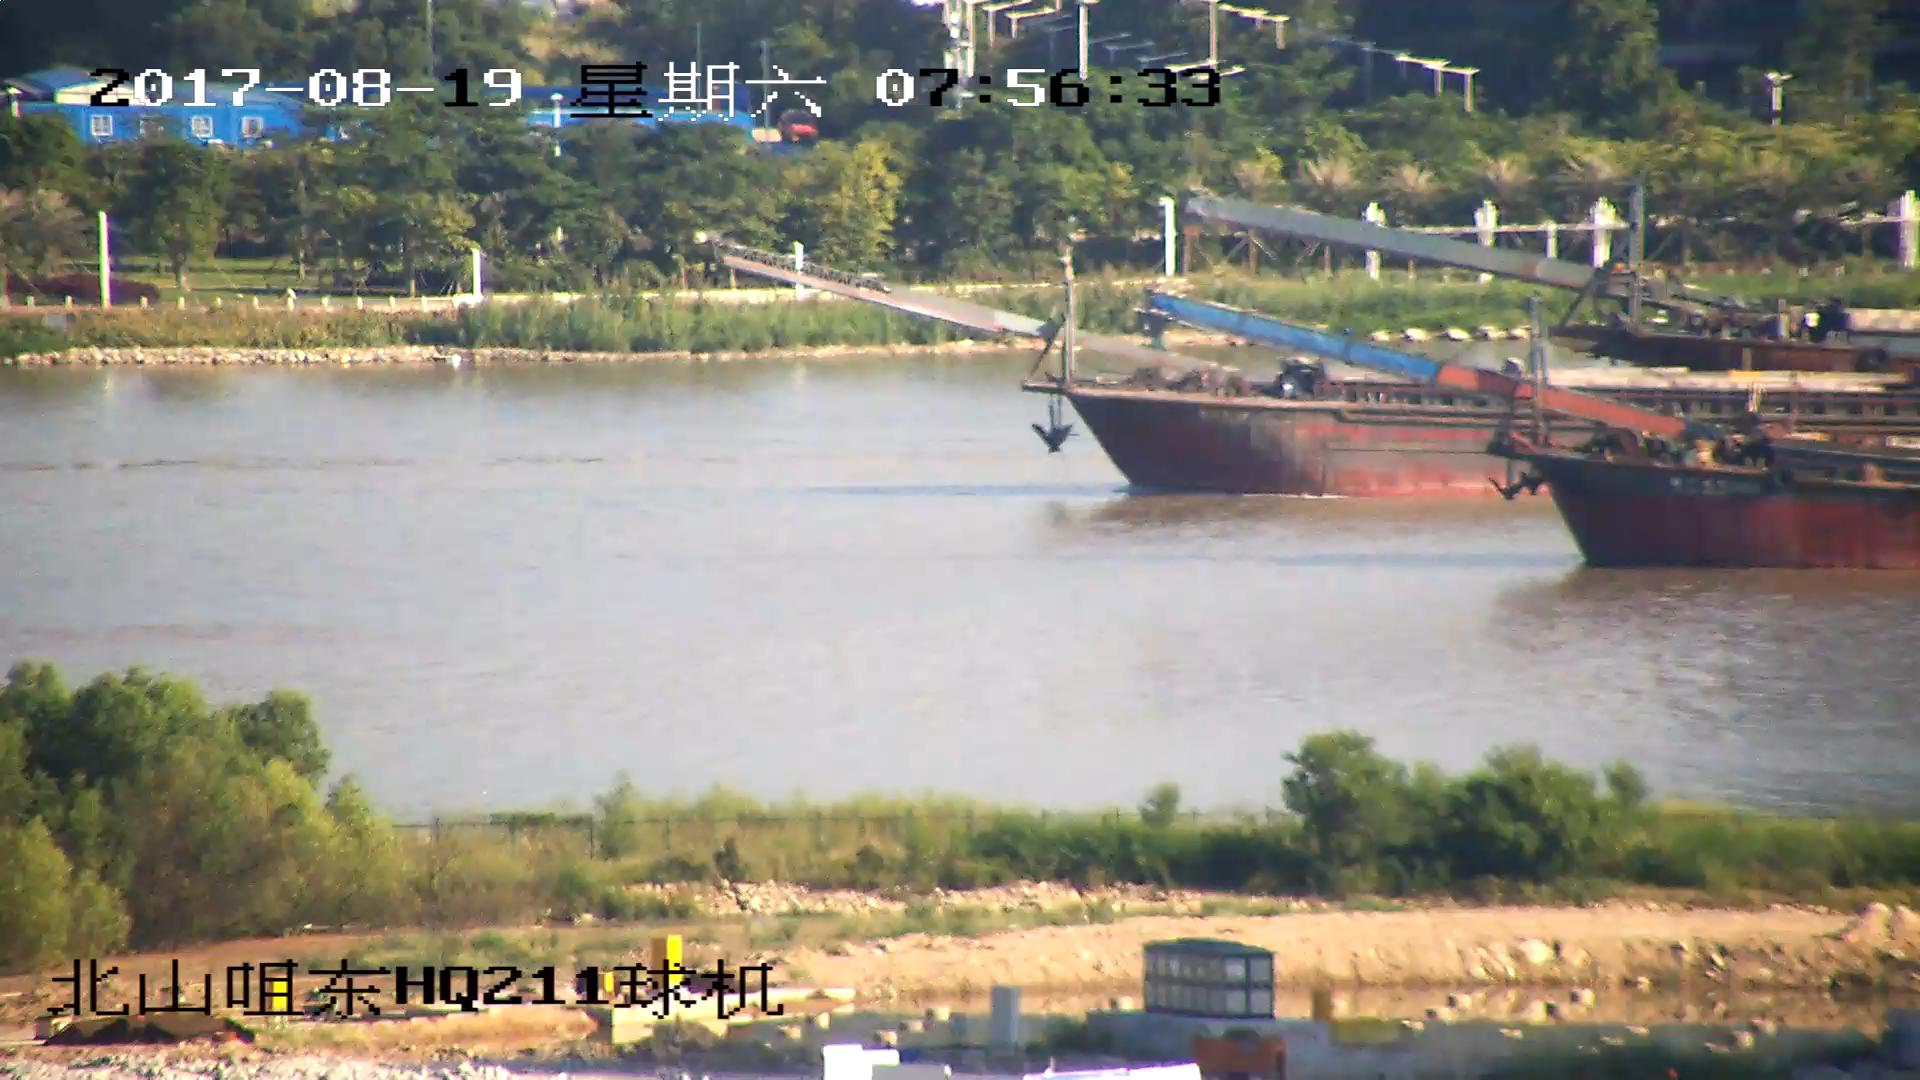bulk cargo carrier: (1149, 293, 1920, 567), (704, 245, 1487, 504), (1194, 195, 1920, 371)
